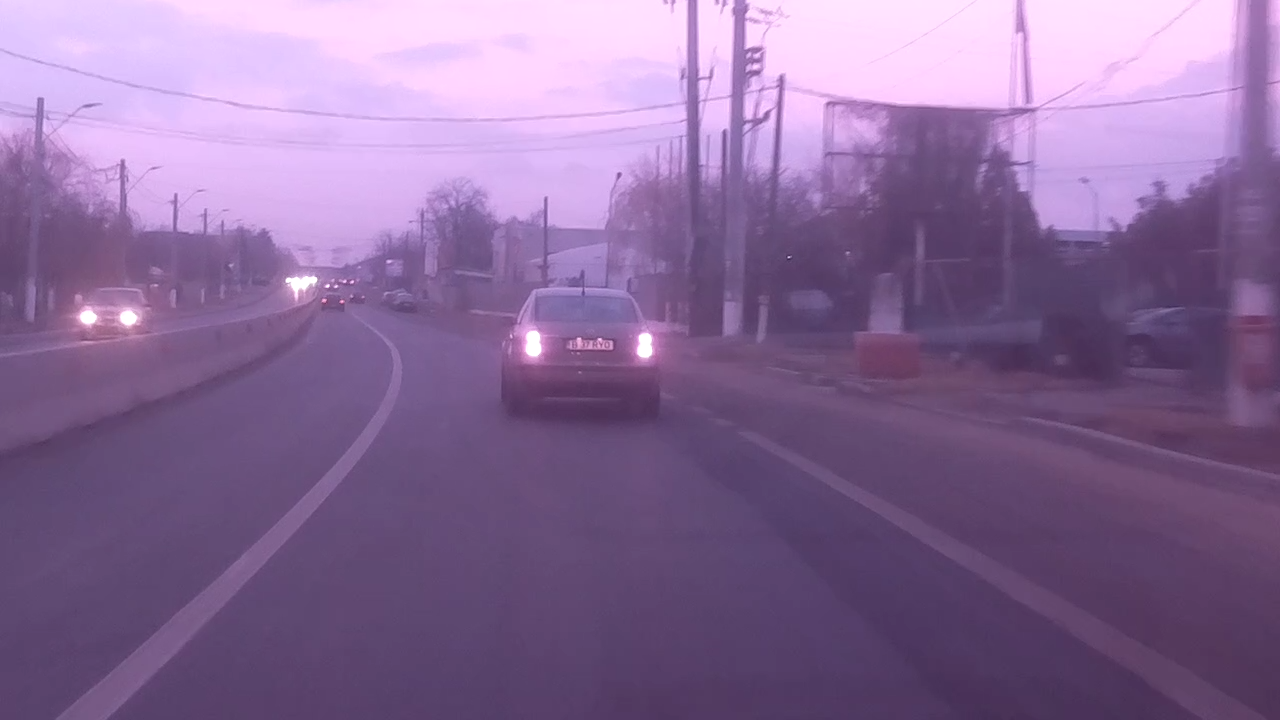license-plate: (562, 336, 616, 352)
